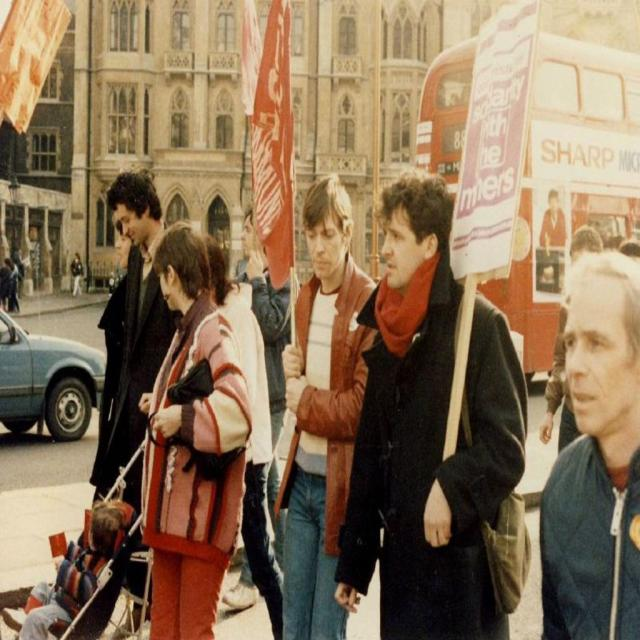car: (0, 290, 118, 453)
